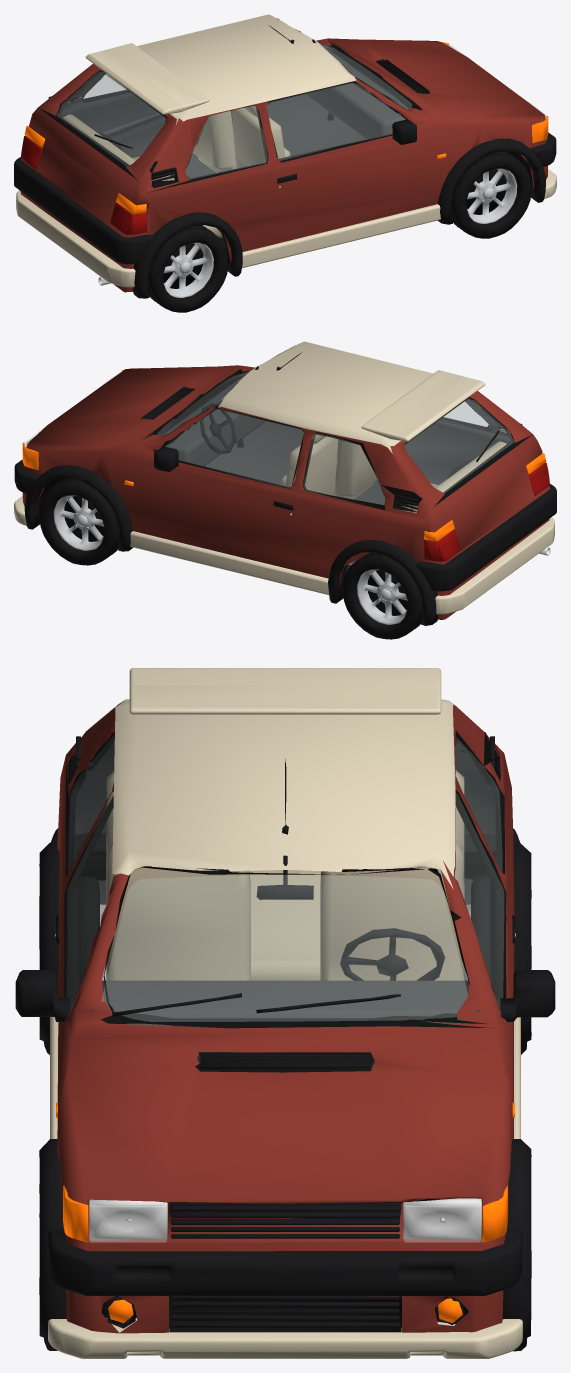
The model's file is trafiklab-hatch-lite.glb.
3 renders of one model, top to bottom at view 1: azimuth 30°, elevation 25°; view 2: azimuth 150°, elevation 25°; view 3: azimuth 270°, elevation 25°, orthographic. The views are drawn at different scales.
Parts seen in each view (by area): view 1: body, glass_front-1, glass_rear, flares, seats, glass_quarter-1, roof_spoiler, bumper_rear, dashboard, skirts, tyre.rr, tyre.fr (+12 smaller); view 2: body, glass_front1, glass_rear, flares, seats, roof_spoiler, bumper_rear, glass_quarter1, skirts, tyre.rl, tyre.fl, band_rear (+13 smaller); view 3: body, glass_windshield, seats, bumper_front, roof_spoiler, flares, dashboard, lip_front, grille, headlamp_bowl, apron_slats, headlamp_lens (+15 smaller).
Part boxes in pixels (x1=…): body: x1=20, y1=14, x2=547, y2=292; glass_front-1: x1=267, y1=83, x2=405, y2=160; glass_rear: x1=57, y1=71, x2=165, y2=166; flares: x1=96, y1=59, x2=545, y2=298; seats: x1=63, y1=105, x2=290, y2=237; glass_quarter-1: x1=186, y1=106, x2=267, y2=179; roof_spoiler: x1=85, y1=43, x2=209, y2=114; bumper_rear: x1=14, y1=157, x2=154, y2=264; dashboard: x1=305, y1=46, x2=415, y2=139; skirts: x1=242, y1=204, x2=440, y2=268; tyre.rr: x1=148, y1=225, x2=228, y2=312; tyre.fr: x1=451, y1=151, x2=531, y2=238; body: x1=22, y1=341, x2=550, y2=619; glass_front1: x1=165, y1=408, x2=303, y2=487; glass_rear: x1=404, y1=399, x2=513, y2=493; flares: x1=24, y1=388, x2=474, y2=625; seats: x1=280, y1=432, x2=506, y2=564; roof_spoiler: x1=361, y1=370, x2=485, y2=441; bumper_rear: x1=416, y1=484, x2=556, y2=591; glass_quarter1: x1=303, y1=433, x2=384, y2=504; skirts: x1=130, y1=531, x2=329, y2=594; tyre.rl: x1=342, y1=552, x2=423, y2=639; tyre.fl: x1=39, y1=478, x2=119, y2=565; band_rear: x1=435, y1=517, x2=554, y2=614; body: x1=57, y1=699, x2=514, y2=1333; glass_windshield: x1=101, y1=875, x2=467, y2=1025; seats: x1=106, y1=770, x2=464, y2=980; bumper_front: x1=48, y1=1229, x2=522, y2=1295; roof_spoiler: x1=129, y1=668, x2=441, y2=714; flares: x1=39, y1=842, x2=531, y2=1339; dashboard: x1=91, y1=980, x2=487, y2=1072; lip_front: x1=48, y1=1318, x2=522, y2=1358; grille: x1=170, y1=1202, x2=400, y2=1238; headlamp_bowl: x1=89, y1=1198, x2=481, y2=1240; apron_slats: x1=171, y1=1296, x2=399, y2=1327; headlamp_lens: x1=89, y1=1205, x2=481, y2=1242.
Bounding box in the file's own units: 3.57 × 1.62 × 1.87.
